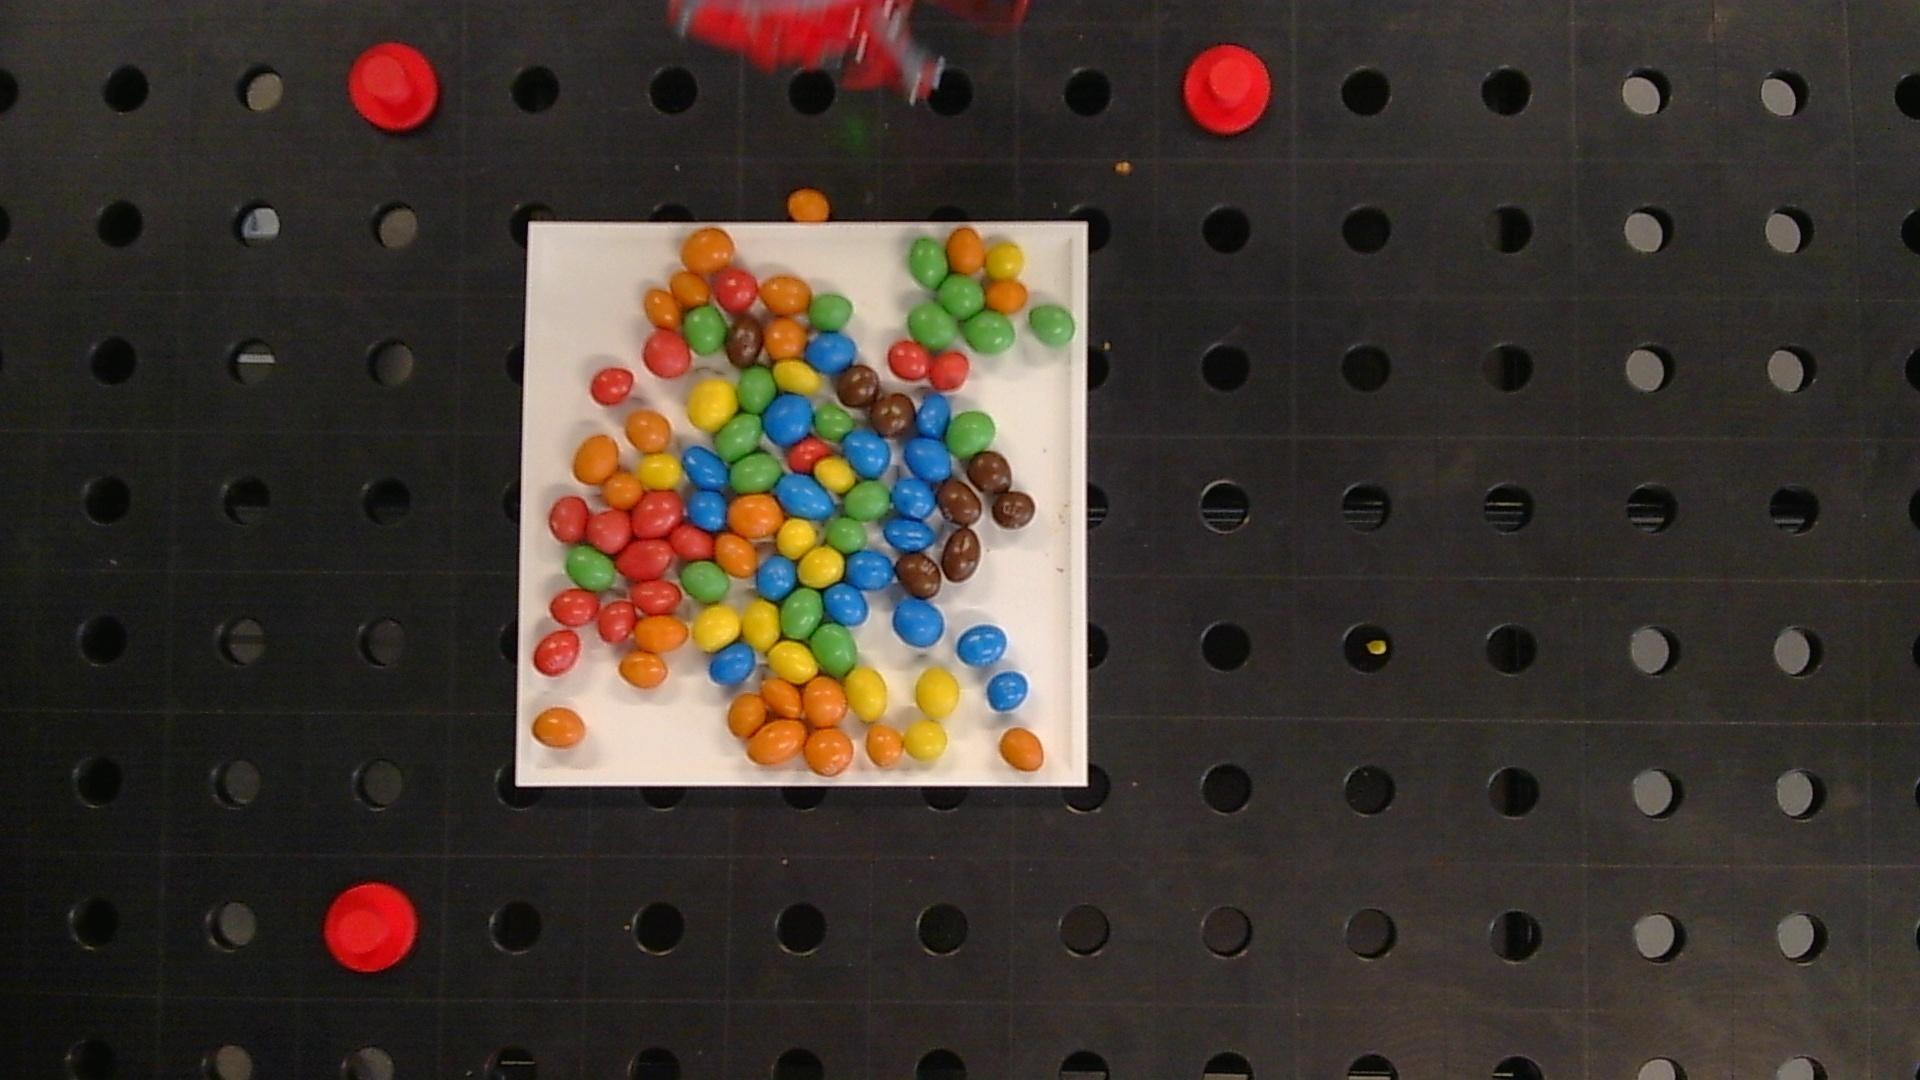blue: (885, 520, 942, 599), (777, 472, 835, 518), (893, 597, 944, 646), (764, 394, 812, 444), (844, 431, 890, 477), (708, 642, 757, 684), (804, 332, 856, 372), (905, 438, 951, 481), (957, 625, 1006, 666), (845, 551, 894, 591), (683, 447, 728, 489), (824, 584, 868, 625), (893, 479, 936, 518), (757, 555, 796, 599), (884, 518, 934, 553), (988, 671, 1029, 711), (687, 489, 727, 529), (916, 396, 949, 439)
brown: (942, 529, 981, 583), (938, 479, 982, 525), (897, 553, 942, 599), (872, 394, 915, 438), (836, 365, 880, 407), (727, 315, 762, 365), (968, 452, 1011, 493), (992, 491, 1035, 529)
green: (947, 411, 996, 459), (812, 624, 857, 675), (963, 311, 1017, 353), (716, 413, 762, 459), (909, 303, 956, 348), (936, 276, 985, 319), (566, 547, 616, 589), (680, 562, 731, 604), (683, 306, 727, 353), (781, 589, 823, 638), (731, 452, 781, 492), (1029, 305, 1076, 345), (909, 239, 948, 286), (844, 481, 890, 520), (737, 367, 775, 411), (811, 293, 852, 331), (825, 517, 866, 553), (815, 406, 853, 442)
orange: (746, 719, 806, 765), (804, 728, 855, 775), (683, 228, 733, 273), (729, 495, 782, 537), (531, 707, 585, 748), (574, 435, 618, 483), (803, 678, 847, 725), (634, 615, 688, 651), (1000, 728, 1044, 771), (761, 276, 811, 314), (715, 533, 757, 576), (626, 410, 670, 451), (947, 227, 984, 274), (764, 318, 806, 359), (620, 653, 667, 688), (728, 694, 766, 736), (865, 725, 903, 766), (762, 678, 802, 716), (603, 471, 642, 508), (645, 289, 682, 327), (787, 189, 829, 222), (985, 280, 1027, 313), (671, 270, 709, 305)
red: (632, 491, 683, 535), (617, 539, 671, 580), (644, 331, 690, 377), (533, 630, 580, 675), (587, 509, 630, 551), (549, 496, 588, 542), (715, 270, 758, 311), (550, 589, 599, 625), (630, 580, 682, 613), (596, 601, 636, 644), (887, 342, 931, 380), (589, 367, 634, 404), (669, 524, 715, 558), (789, 438, 831, 471), (932, 352, 969, 389)
yellow: (687, 380, 737, 429), (845, 667, 887, 721), (915, 669, 960, 717), (692, 605, 740, 650), (798, 547, 844, 587), (770, 642, 818, 680), (742, 600, 779, 649), (903, 720, 947, 760), (774, 360, 820, 394), (777, 518, 816, 556), (638, 454, 680, 487), (986, 244, 1025, 280), (815, 458, 855, 491), (815, 458, 853, 491)
